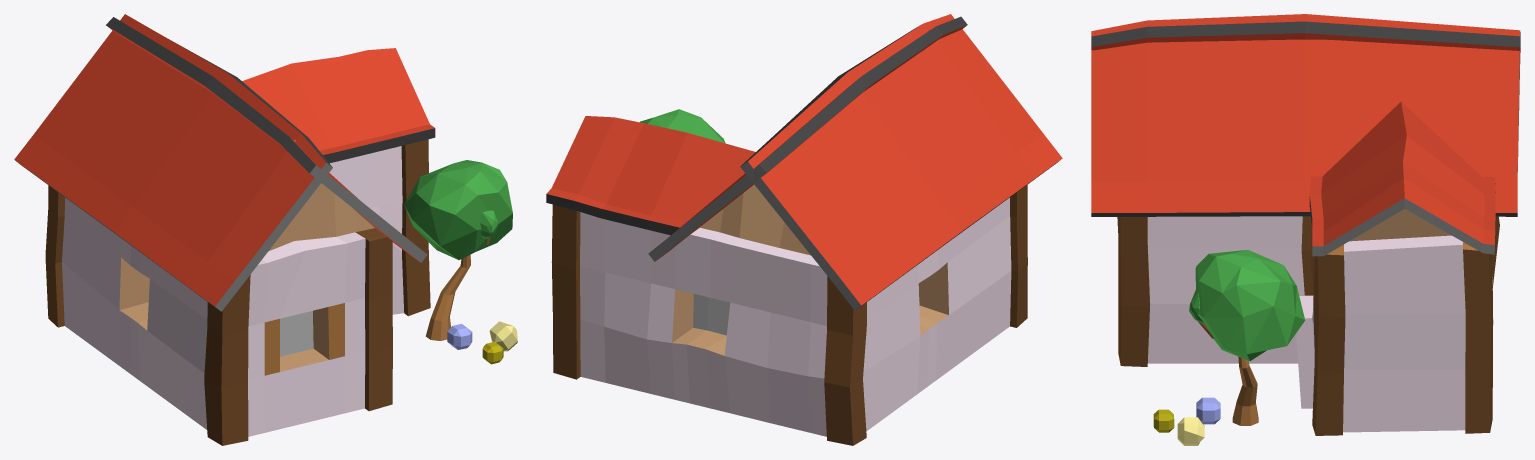
File: house04.fbx
The picture shows the model from 3 angles, left to right: view 1: azimuth 30°, elevation 25°; view 2: azimuth 150°, elevation 25°; view 3: azimuth 270°, elevation 25°; orthographic projection. The views are drawn at different scales.
Visible parts, largest first — view 1: Cube; view 2: Cube; view 3: Cube.
Boxes of the visible parts, box(x1,y1,x2,y2) form: Cube: box(14, 14, 517, 445); Cube: box(546, 14, 1062, 445); Cube: box(1091, 14, 1520, 445).
Size of the model in its own units: 394 by 302 by 381.
